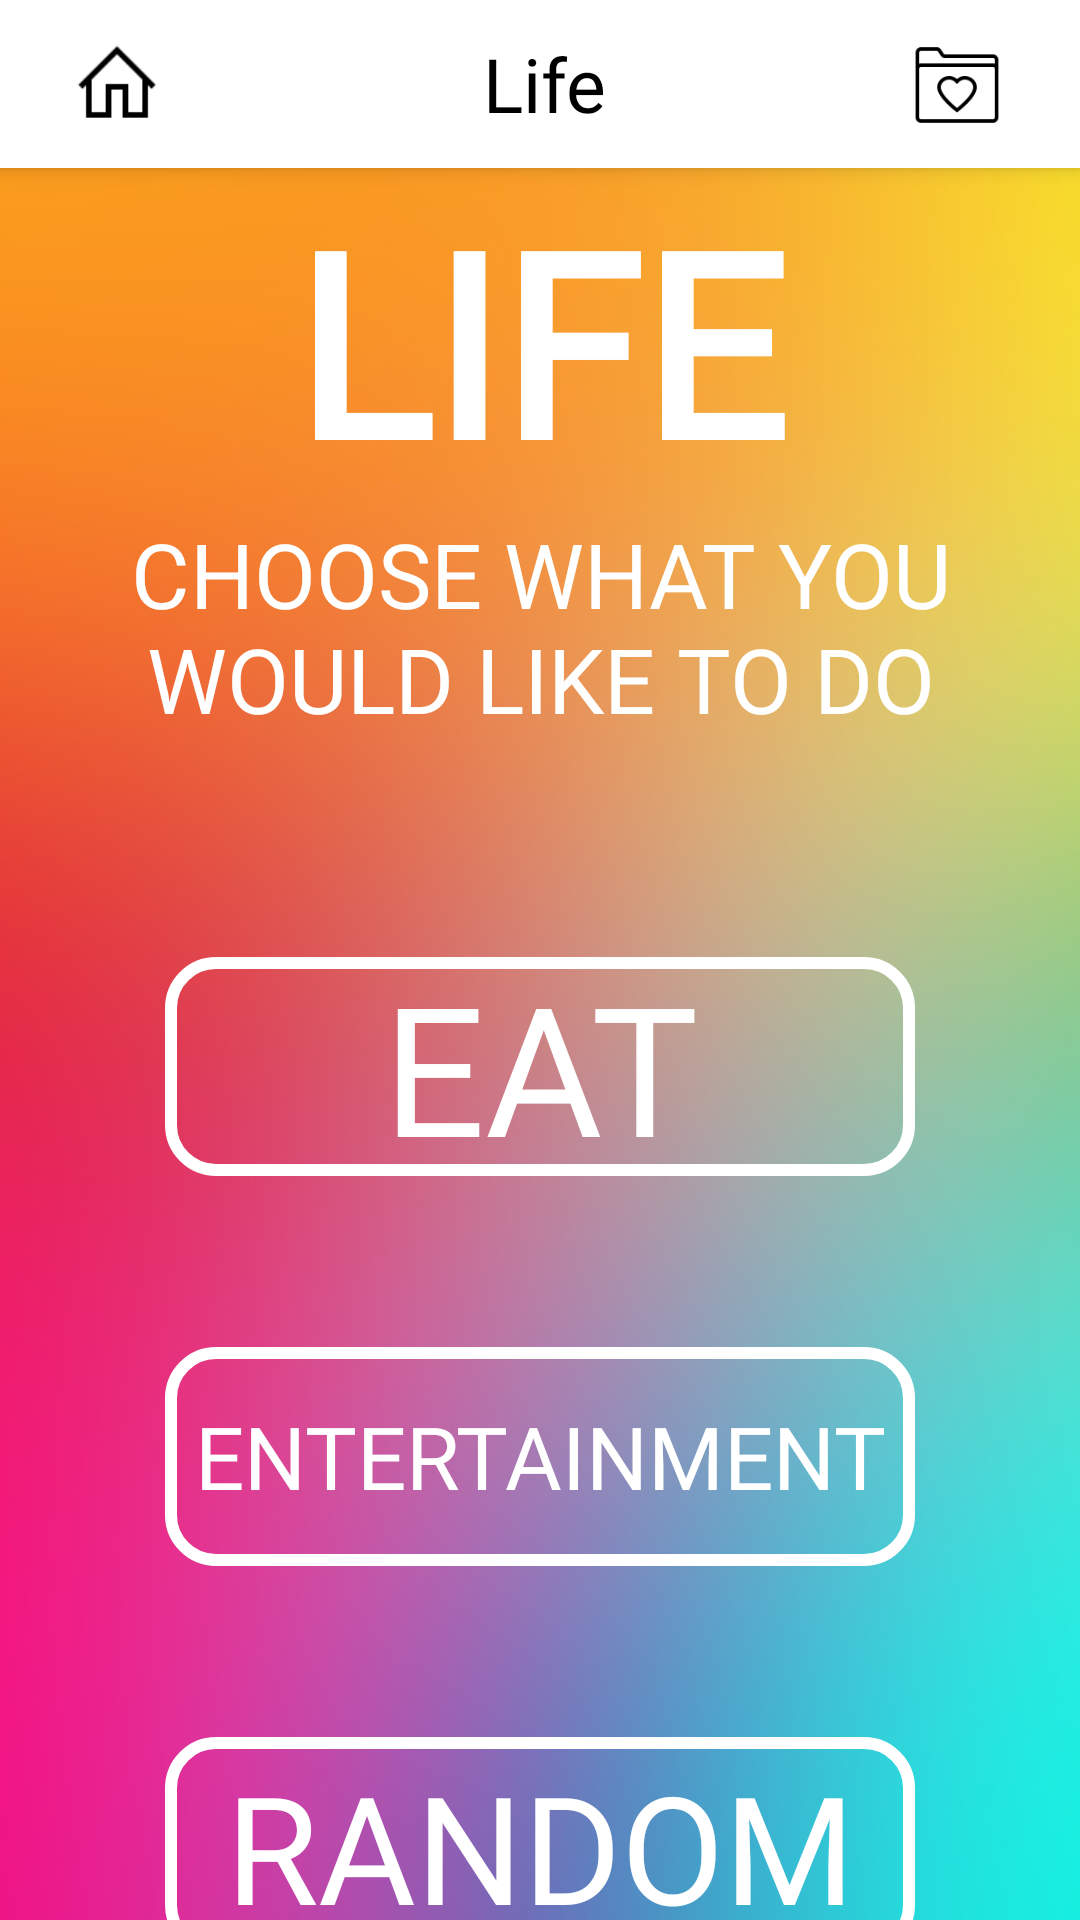

Icon click points for this 1080px×1920px phone screenshot, format [x,y]:
favorite folder: [957,85]
home: [117,82]
